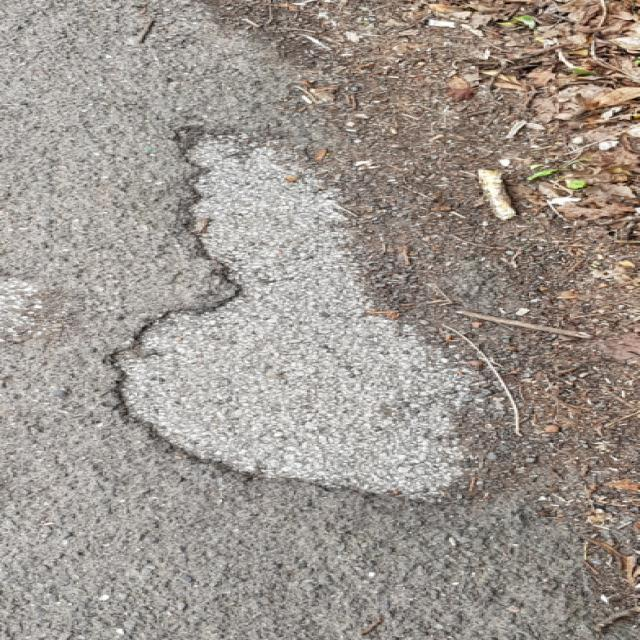Pothole: (107, 121, 522, 512)
